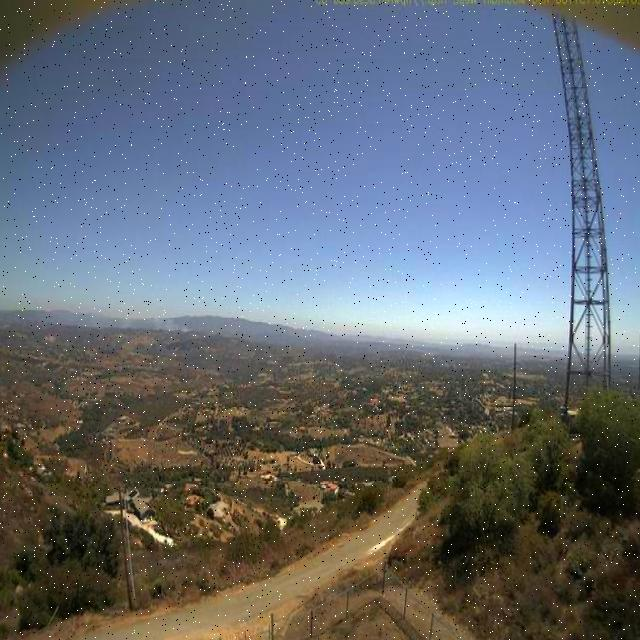smoke: (73, 296, 198, 337)
